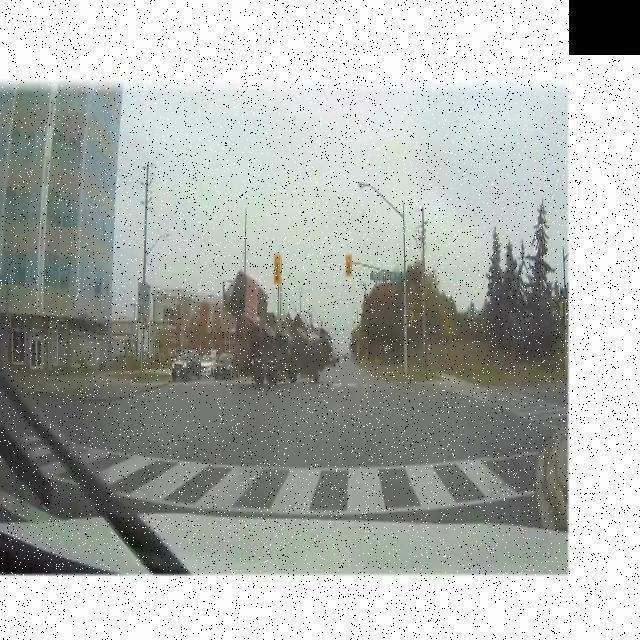accident: (222, 270, 336, 390)
